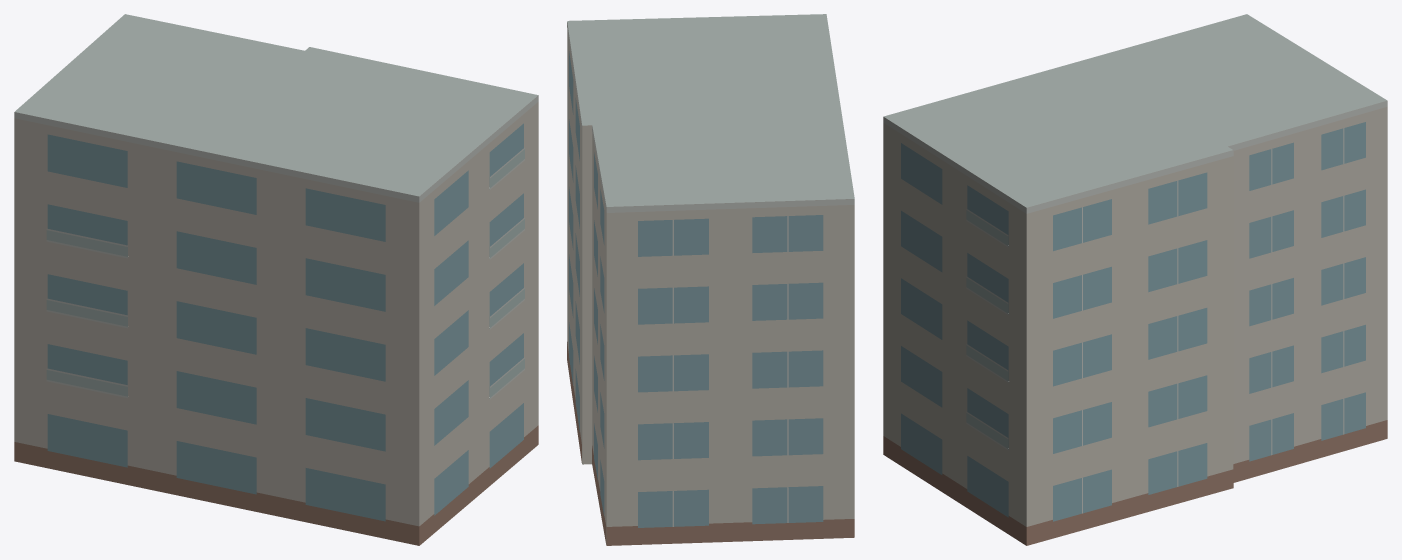
The model's file is survey-upis-32947132.glb.
3 renders of one model, left to right at view 1: azimuth 30°, elevation 25°; view 2: azimuth 150°, elevation 25°; view 3: azimuth 270°, elevation 25°, orthographic. The views are drawn at different scales.
Visible parts, largest first — view 1: survey-upis-32947132.tmp; view 2: survey-upis-32947132.tmp; view 3: survey-upis-32947132.tmp.
Part boxes in pixels (x1,y1,x2,y2): survey-upis-32947132.tmp: [14, 14, 538, 545]; survey-upis-32947132.tmp: [567, 14, 854, 545]; survey-upis-32947132.tmp: [883, 14, 1387, 545].
Bounding box in the file's own units: 16.73 × 13.6 × 18.4.
